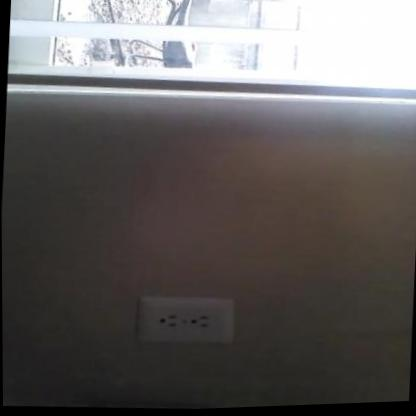OUTLET: (137, 292, 237, 347)
